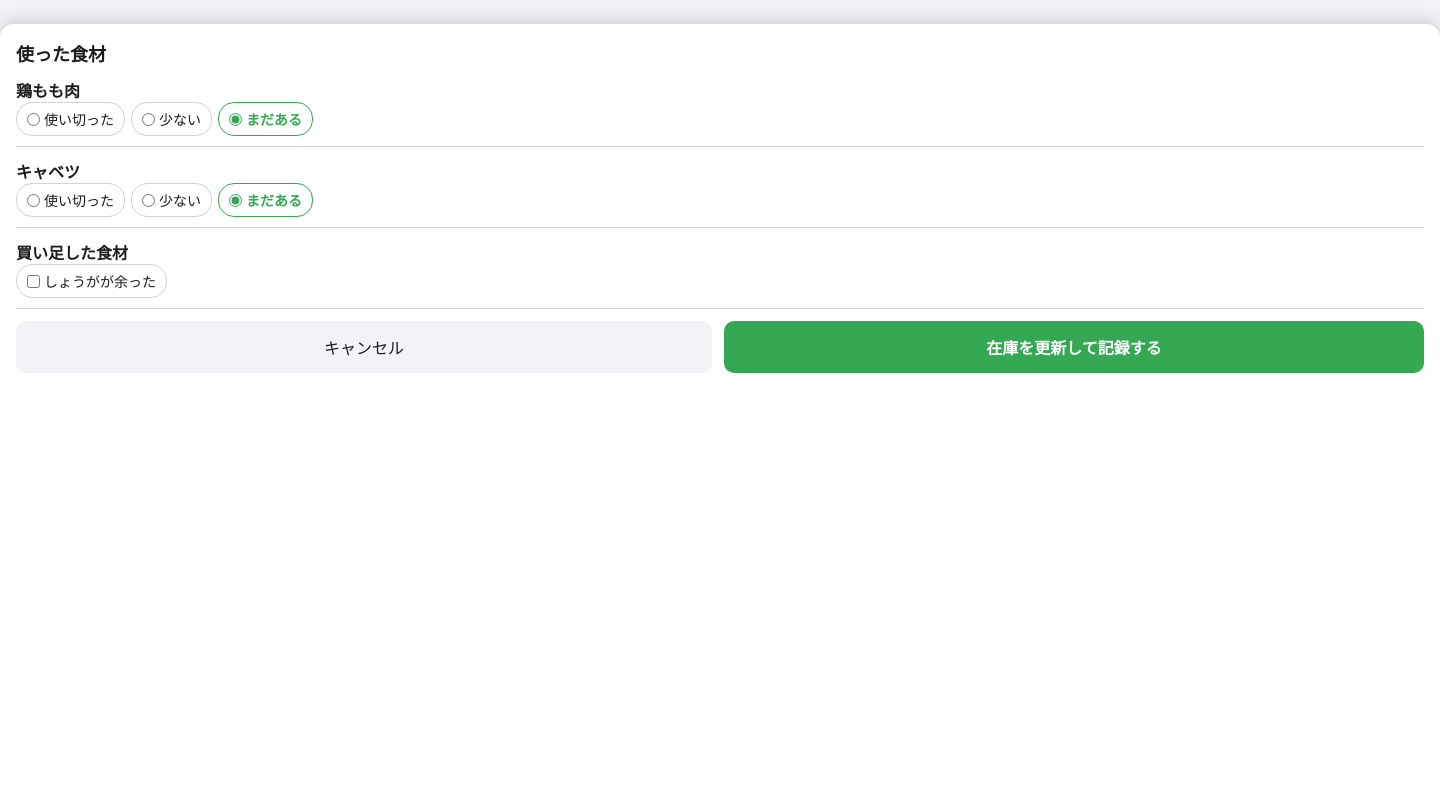
Test case: CookedSheet（D-12, D-37） › 記録に失敗したらエラーを表示し、閉じない
Check: the element "鶏もも肉" is shown, box [16,78,1424,147]
Click the button "在庫を更新して記録する" at (1074, 347), box [724,321,1424,373]
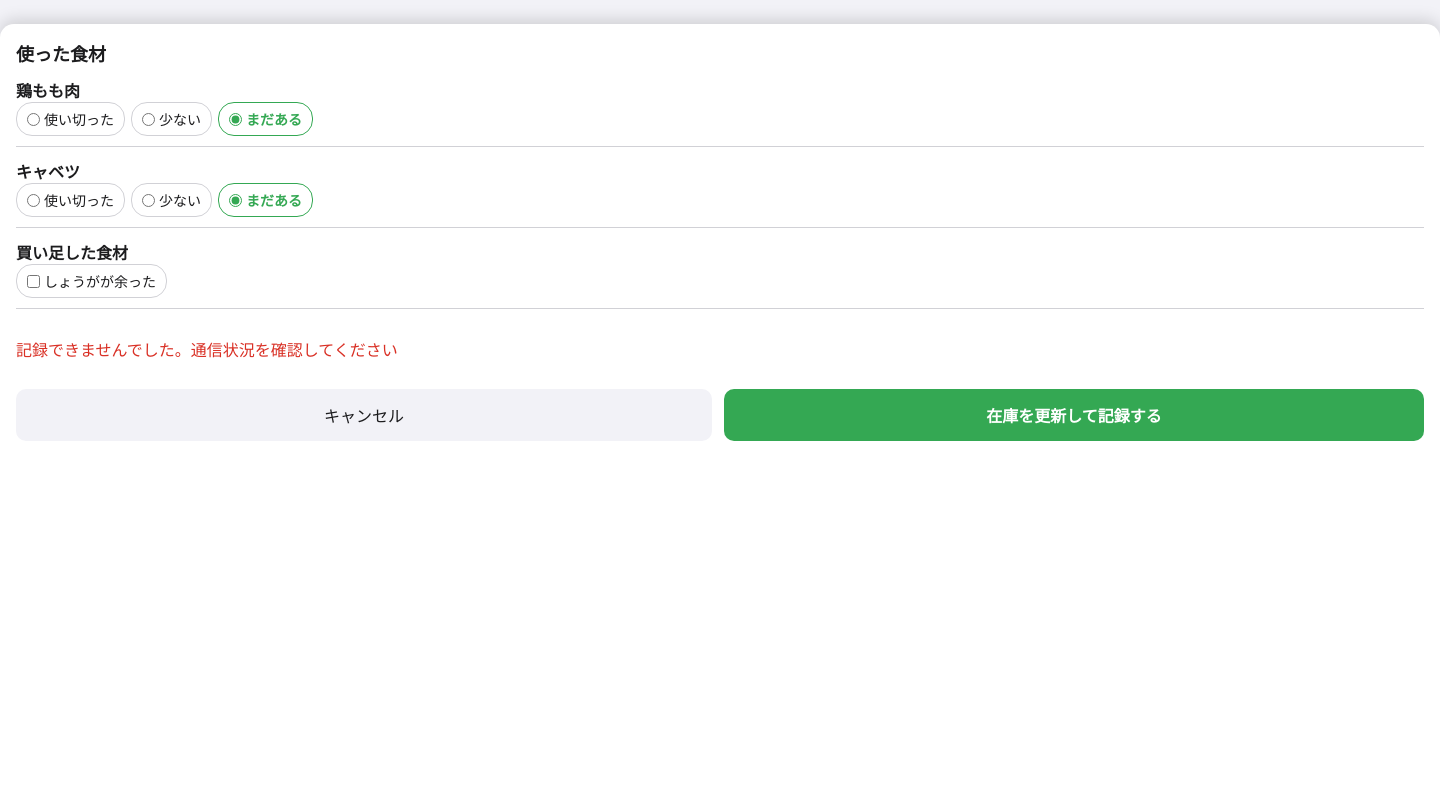
Check: the message shows "記録できませんでした", box [16,340,398,360]
